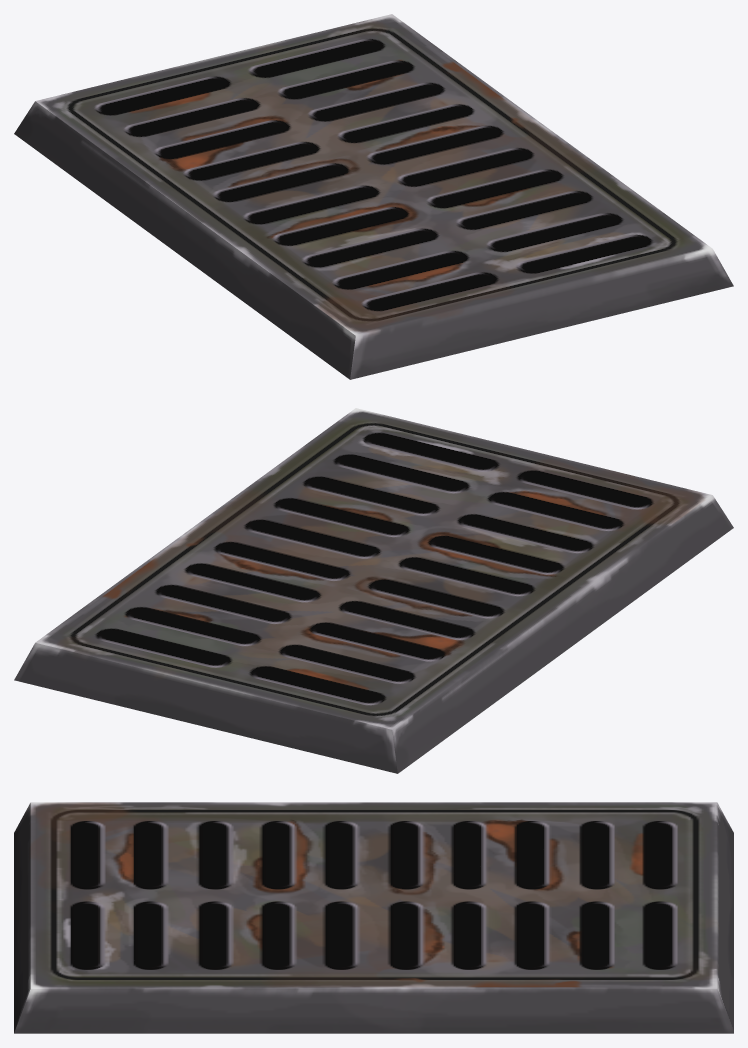
Rendered from TRF0210030.fbx.
3 views of the same model, one above another, from view 1: azimuth 30°, elevation 25°; view 2: azimuth 150°, elevation 25°; view 3: azimuth 270°, elevation 25° (orthographic). The views are drawn at different scales.
Parts seen in each view (by area): view 1: smTRF0210030; view 2: smTRF0210030; view 3: smTRF0210030.
Part boxes in pixels (x1,y1,x2,y2): smTRF0210030: (14, 14, 733, 379); smTRF0210030: (14, 408, 733, 773); smTRF0210030: (14, 802, 733, 1033).
Bounding box in the file's own units: 57.14 × 5 × 86.68.
Materials: 1 (1 with a texture image).
